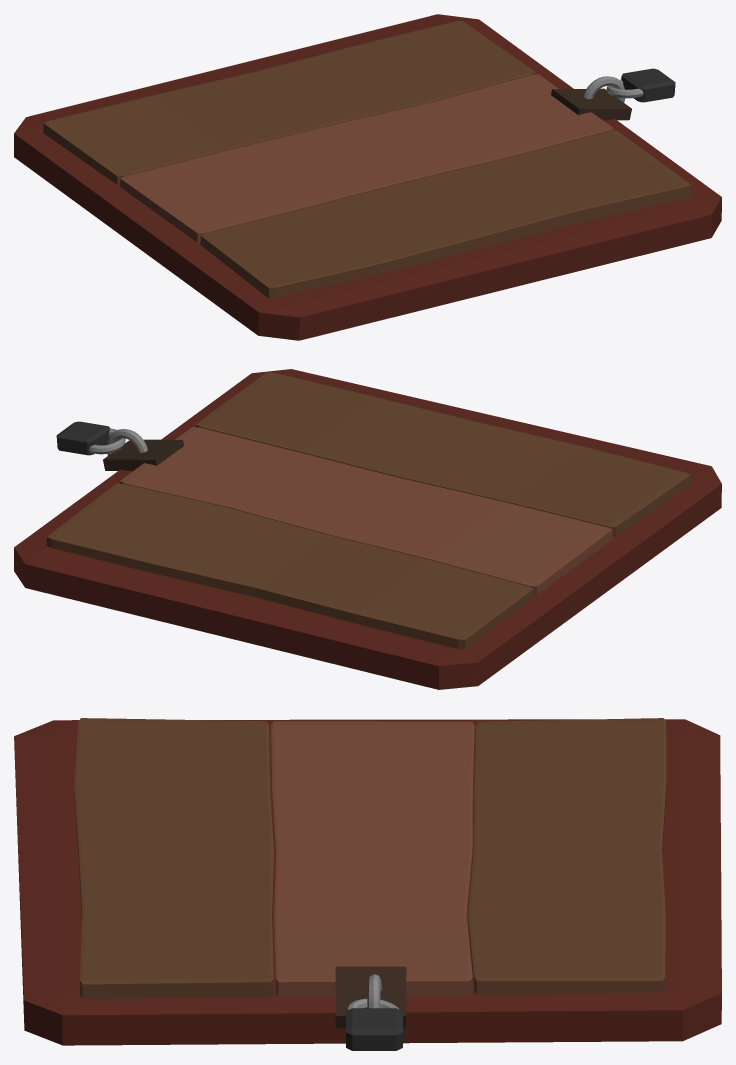
File: Hatch.fbx
The picture shows the model from 3 angles, top to bottom: view 1: azimuth 30°, elevation 25°; view 2: azimuth 150°, elevation 25°; view 3: azimuth 270°, elevation 25°; orthographic projection. The views are drawn at different scales.
Visible parts, largest first — view 1: Cube, Cube.003, Cube.001, Cube.002, Cube.004, Cube.005; view 2: Cube, Cube.002, Cube.003, Cube.001, Cube.004, Cube.005; view 3: Cube, Cube.003, Cube.002, Cube.001, Cube.004, Cube.005.
Part boxes in pixels (x1,y1,x2,y2): Cube: (14, 14, 721, 340); Cube.003: (200, 130, 690, 298); Cube.001: (120, 74, 613, 242); Cube.002: (43, 20, 535, 184); Cube.004: (551, 88, 631, 120); Cube.005: (621, 68, 675, 102); Cube: (14, 369, 721, 689); Cube.002: (46, 483, 534, 649); Cube.003: (195, 372, 690, 536); Cube.001: (119, 427, 612, 594); Cube.004: (103, 439, 183, 471); Cube.005: (56, 421, 110, 455); Cube: (14, 719, 721, 1045); Cube.003: (74, 718, 273, 998); Cube.002: (468, 718, 666, 994); Cube.001: (271, 721, 474, 996); Cube.004: (335, 966, 406, 1028); Cube.005: (346, 1008, 402, 1050).
Size of the model in its own units: 57.2 by 5.78 by 50.96.
